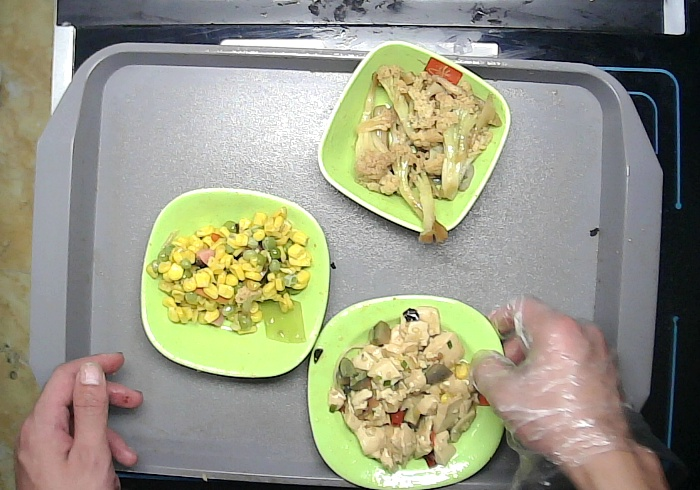SHKJ-Lv_Se_Cai_Die: (139, 184, 328, 382)
SHKJ-Lv_Se_Si_Fang_Cai_Die: (307, 294, 511, 489)
SHKJ-Lv_Se_Xiao_Fang_Die: (316, 38, 513, 237)
